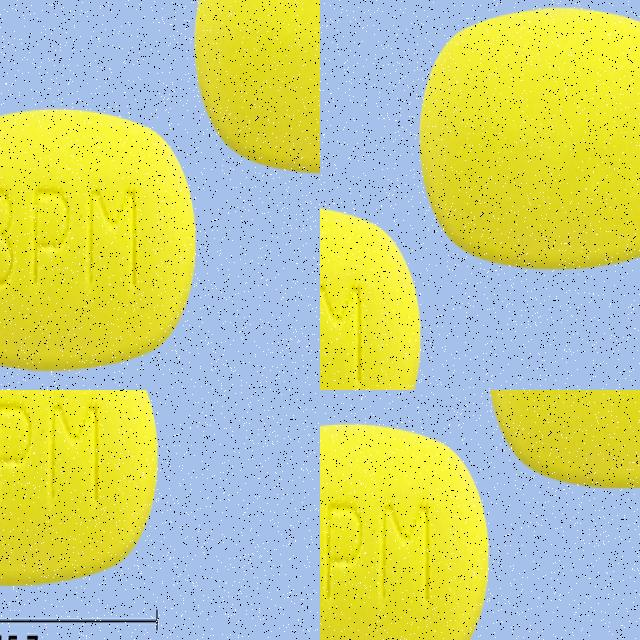Amoxicle: (0, 390, 284, 640)
Claycin: (320, 419, 495, 640), (483, 390, 640, 493)
Crafroxin Tab: (401, 0, 640, 271), (320, 185, 444, 390)
Doxiendi: (0, 0, 162, 369), (200, 0, 320, 371)
